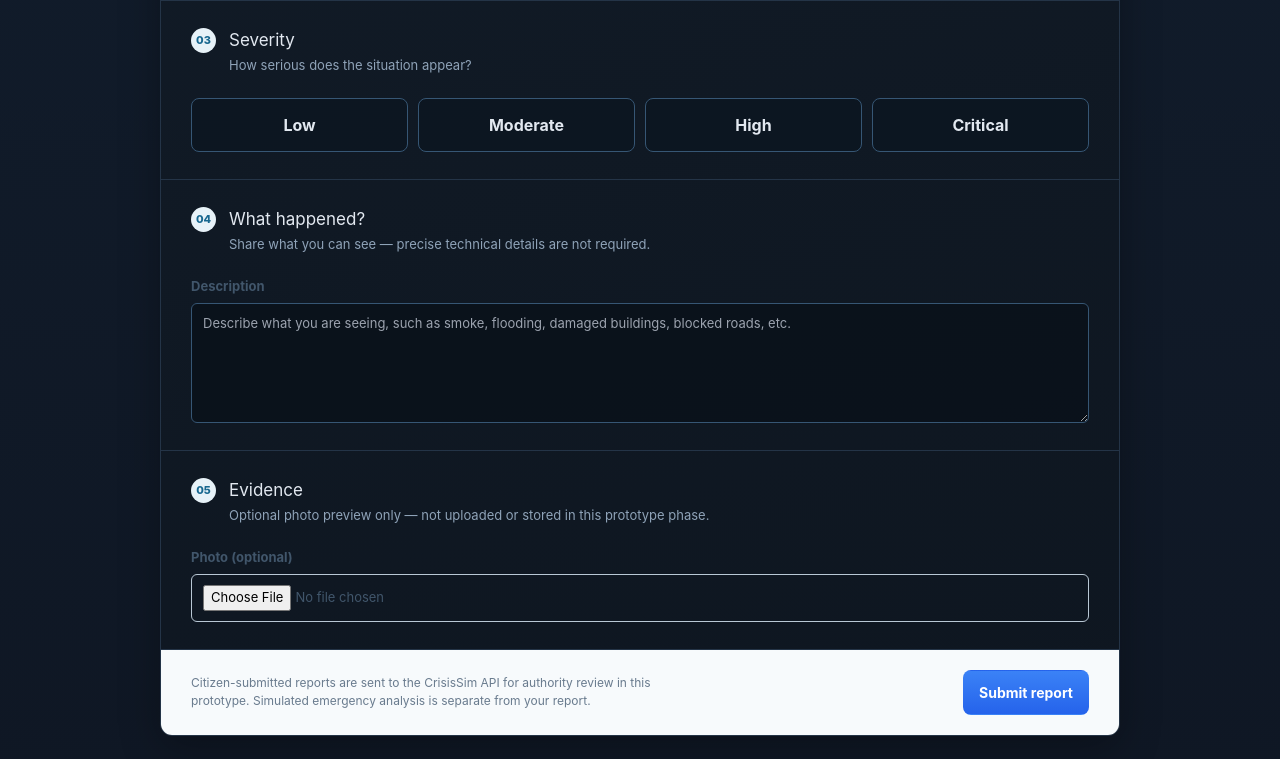
Test: ReportCrisisPage › shows validation errors when required fields are missing
(page scrolled)
Click the button "Submit report": {"x": 1026, "y": 692} [963,670,1089,715]
(page scrolled)
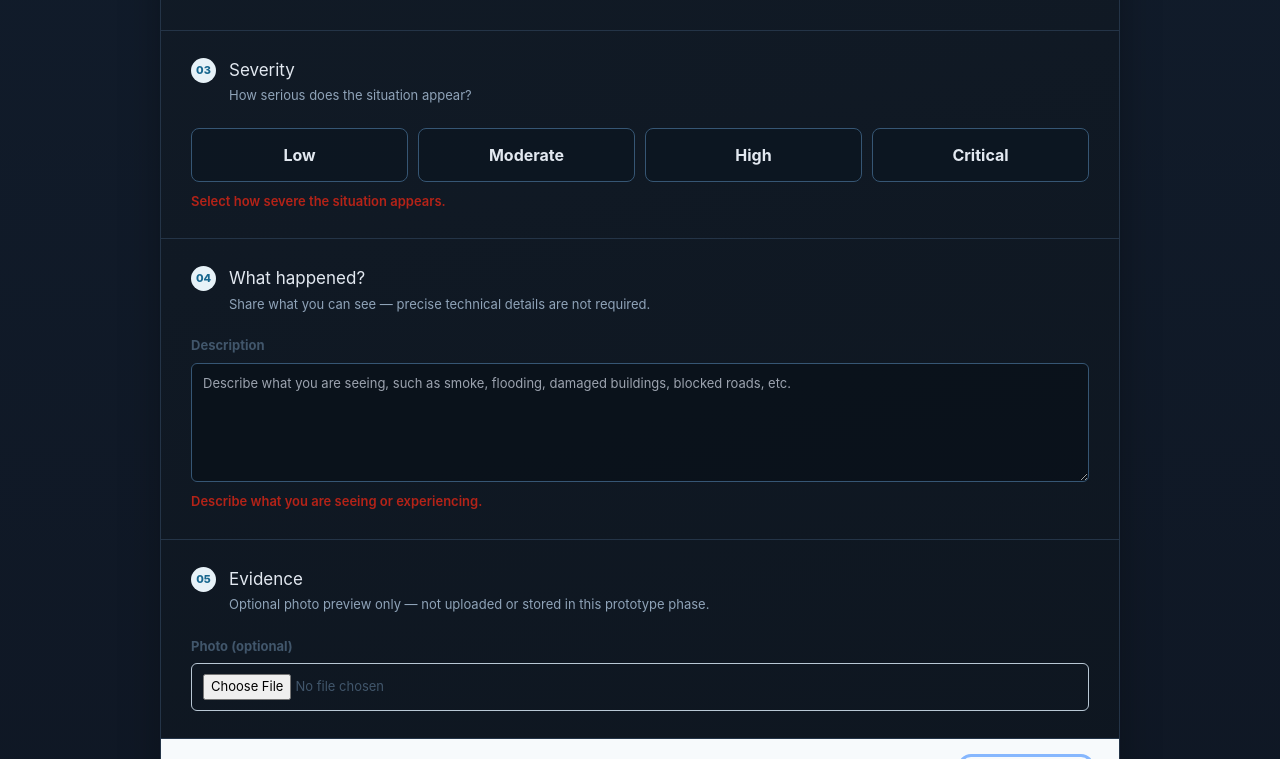
Expected: the text "Select how severe the situation appears." is shown, [191,193,446,209]
Expected: the text "Describe what you are seeing or experiencing." is shown, [191,493,482,509]
